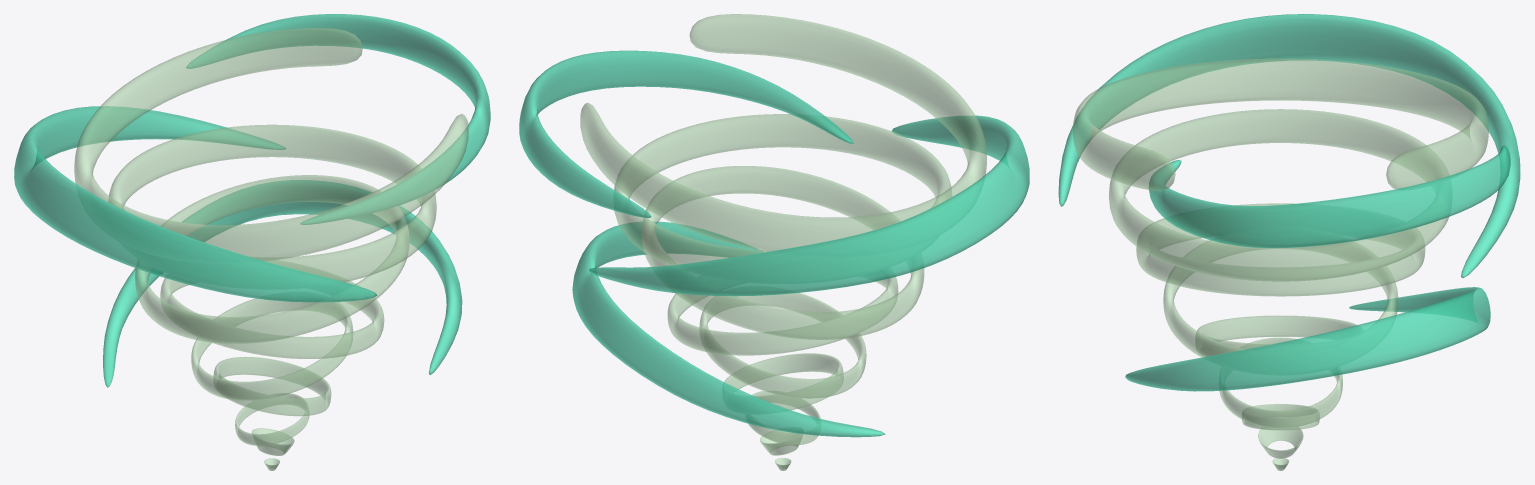
File: Tornado.glb
3 renders of one model, left to right at view 1: azimuth 30°, elevation 25°; view 2: azimuth 150°, elevation 25°; view 3: azimuth 270°, elevation 25°, orthographic. The views are drawn at different scales.
Visible parts, largest first — view 1: 円, 円.001, 円.003, 円.002; view 2: 円, 円.001, 円.002, 円.003; view 3: 円, 円.001, 円.002, 円.003.
Part boxes in pixels (<box>): 円: <box>74,27,468,470</box>; 円.001: <box>14,106,376,302</box>; 円.003: <box>186,14,490,224</box>; 円.002: <box>103,180,462,387</box>; 円: <box>580,14,986,470</box>; 円.001: <box>589,115,1029,296</box>; 円.002: <box>572,221,885,437</box>; 円.003: <box>519,50,853,217</box>; 円: <box>1072,58,1488,470</box>; 円.001: <box>1058,14,1520,277</box>; 円.002: <box>1125,287,1490,391</box>; 円.003: <box>1149,145,1510,248</box>.
Size of the model in its own units: 2.33 by 1.89 by 2.07.
